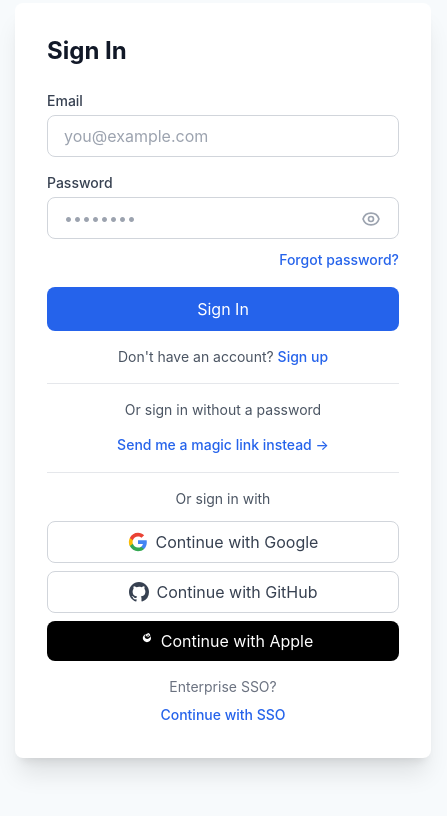
Test: LoginPage › displays validation errors for empty fields
The image size is (447, 816).
# Touch the fields to trigger validation
Click the field labelled "Email".
click(223, 136)  # box [47,114,399,156]
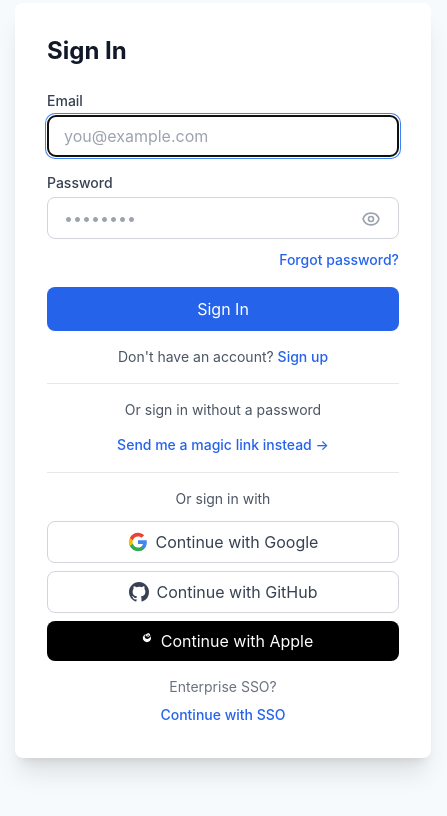
Click the password field labelled "Password".
click(223, 218)  # box [47,196,399,238]
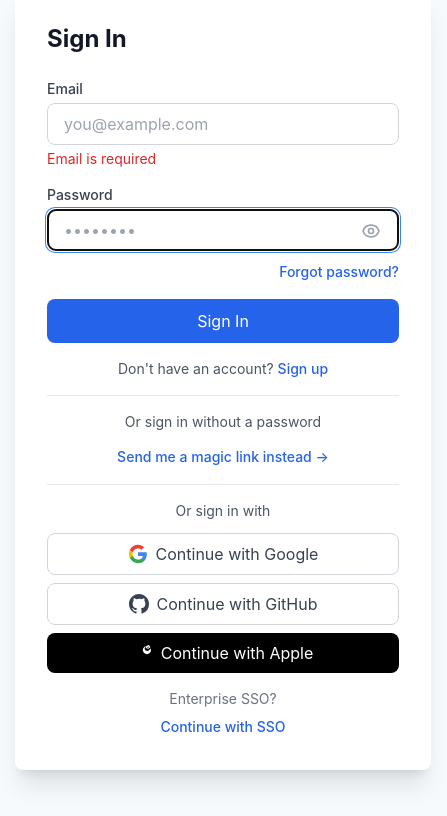
Click the button "Sign In".
click(223, 320)  # box [47,298,399,342]
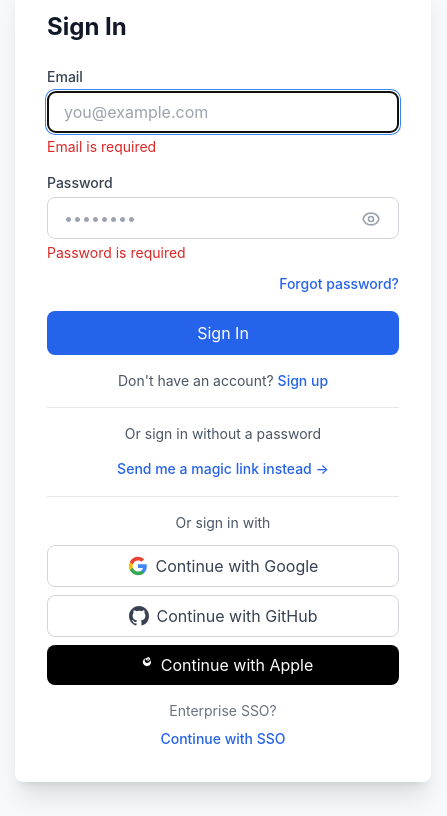
Now the text "Email is required" is shown, box [47,138,156,154]
Now the text "Password is required" is shown, box [47,244,186,260]
